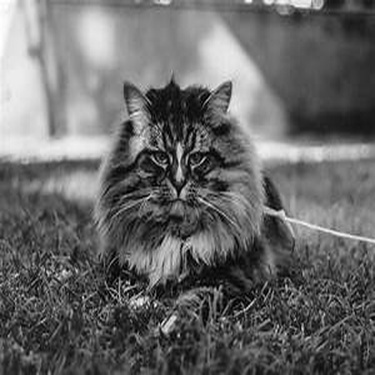cat: (92, 79, 297, 342)
